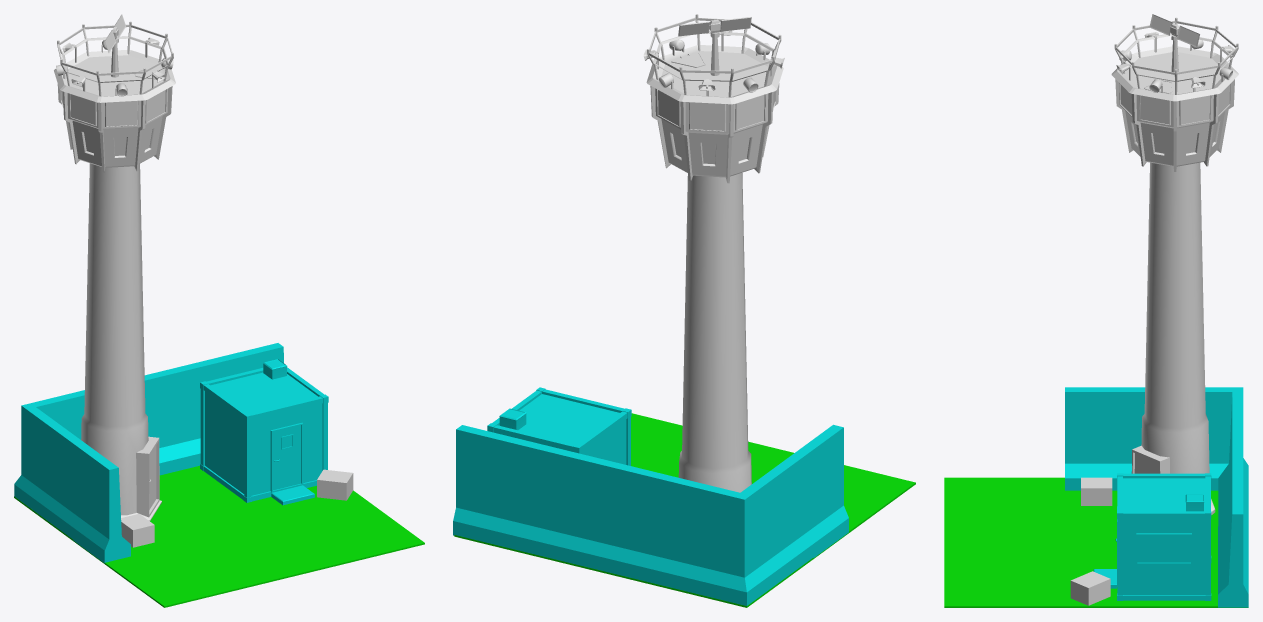
File: Outpost.fbx
3 views of the same model, side by side, from view 1: azimuth 30°, elevation 25°; view 2: azimuth 150°, elevation 25°; view 3: azimuth 270°, elevation 25° (orthographic). The views are drawn at different scales.
Visible parts, largest first — view 1: Tower_and_Boxes_Low2; view 2: Tower_and_Boxes_Low2; view 3: Tower_and_Boxes_Low2.
Boxes of the visible parts, box(x1,y1,x2,y2) form: Tower_and_Boxes_Low2: box(14, 14, 424, 607); Tower_and_Boxes_Low2: box(453, 14, 915, 607); Tower_and_Boxes_Low2: box(944, 14, 1248, 607).
Bounding box in the file's own units: 399 × 700 × 397.
